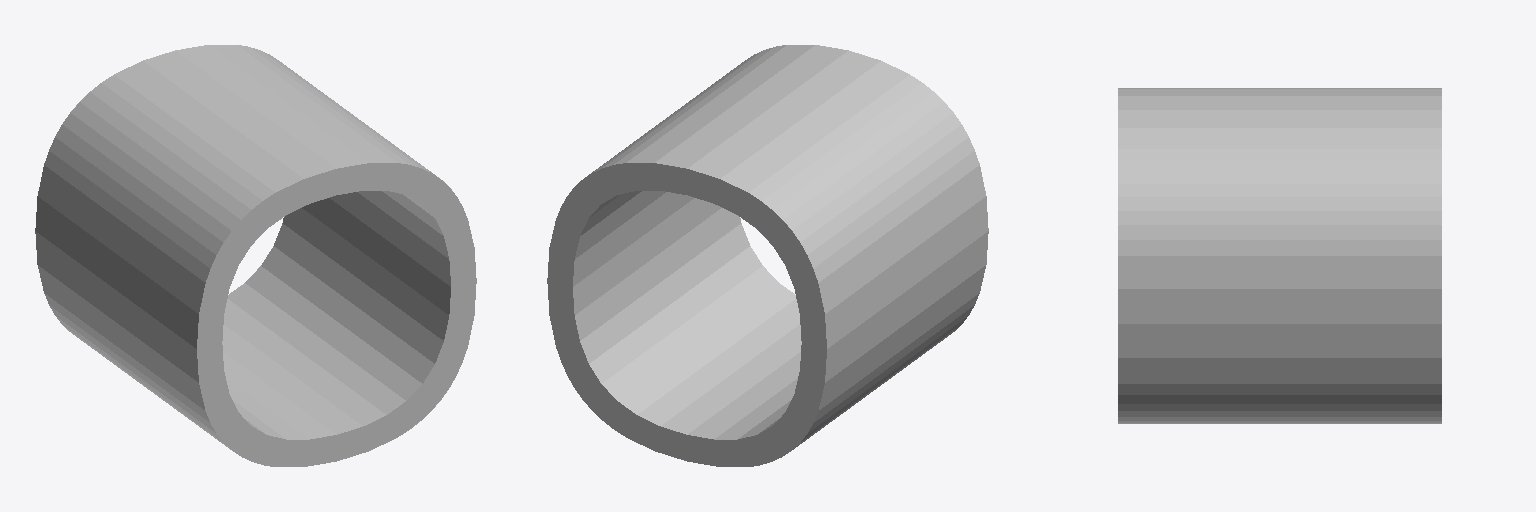
Rendered from sphereContainer.obj.
The picture shows the model from 3 angles: view 1: azimuth 30°, elevation 25°; view 2: azimuth 150°, elevation 25°; view 3: azimuth 270°, elevation 25°; orthographic projection.
Visible parts, largest first — view 1: obj_0; view 2: obj_0; view 3: obj_0.
Boxes of the visible parts, <box> form: obj_0: <box>35,45,476,466</box>; obj_0: <box>547,45,988,466</box>; obj_0: <box>1118,88,1441,423</box>.
Bounding box in the file's own units: 20 × 20 × 20.